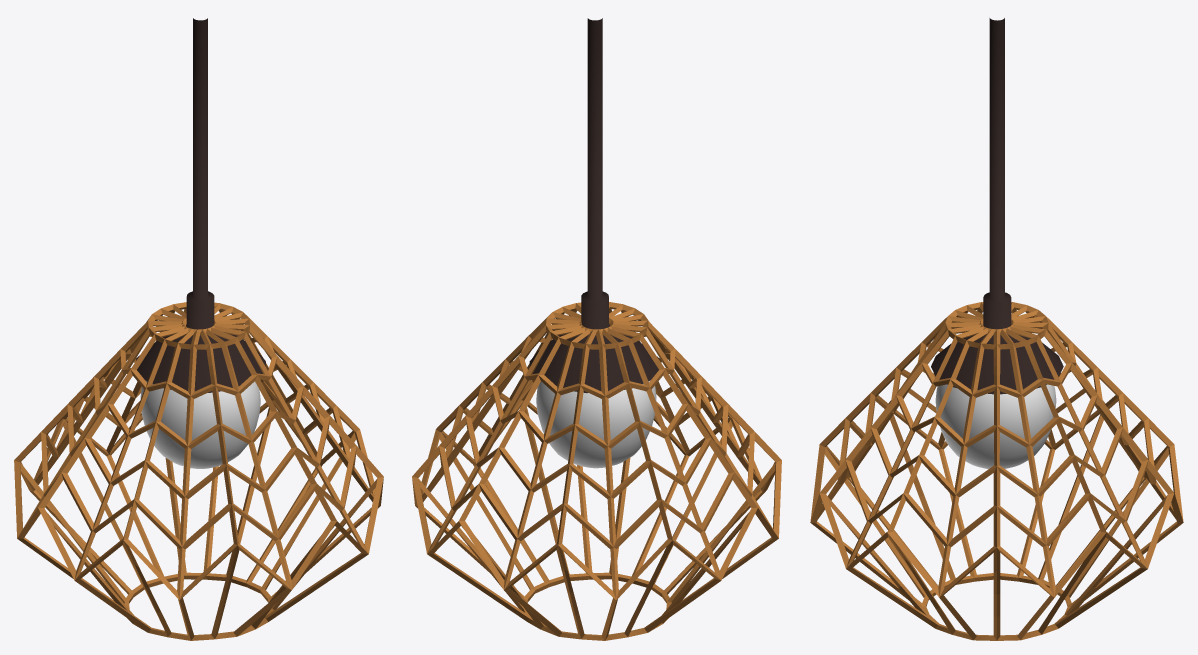
File: Lampu_Gantung.fbx
3 views of the same model, side by side, from view 1: azimuth 30°, elevation 25°; view 2: azimuth 150°, elevation 25°; view 3: azimuth 270°, elevation 25° (orthographic).
Visible parts, largest first — view 1: Cylinder, Cylinder.001, Cylinder.002; view 2: Cylinder, Cylinder.001, Cylinder.002; view 3: Cylinder, Cylinder.001, Cylinder.002.
Boxes of the visible parts, x1,y1,x2,y2 form: Cylinder: (14, 302, 383, 640); Cylinder.001: (136, 18, 265, 392); Cylinder.002: (140, 380, 260, 468); Cylinder: (412, 302, 781, 640); Cylinder.001: (529, 18, 659, 393); Cylinder.002: (536, 380, 656, 468); Cylinder: (810, 302, 1183, 640); Cylinder.001: (931, 18, 1063, 394); Cylinder.002: (935, 384, 1056, 469).
Size of the model in its own units: 177 by 311 by 177.
